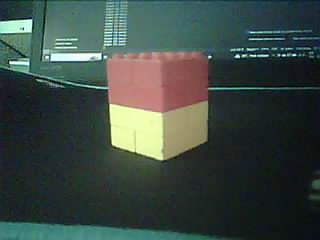lego: (105, 47, 209, 160)
